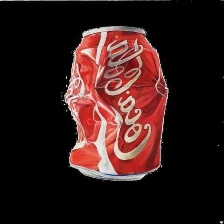can: (61, 24, 173, 190)
